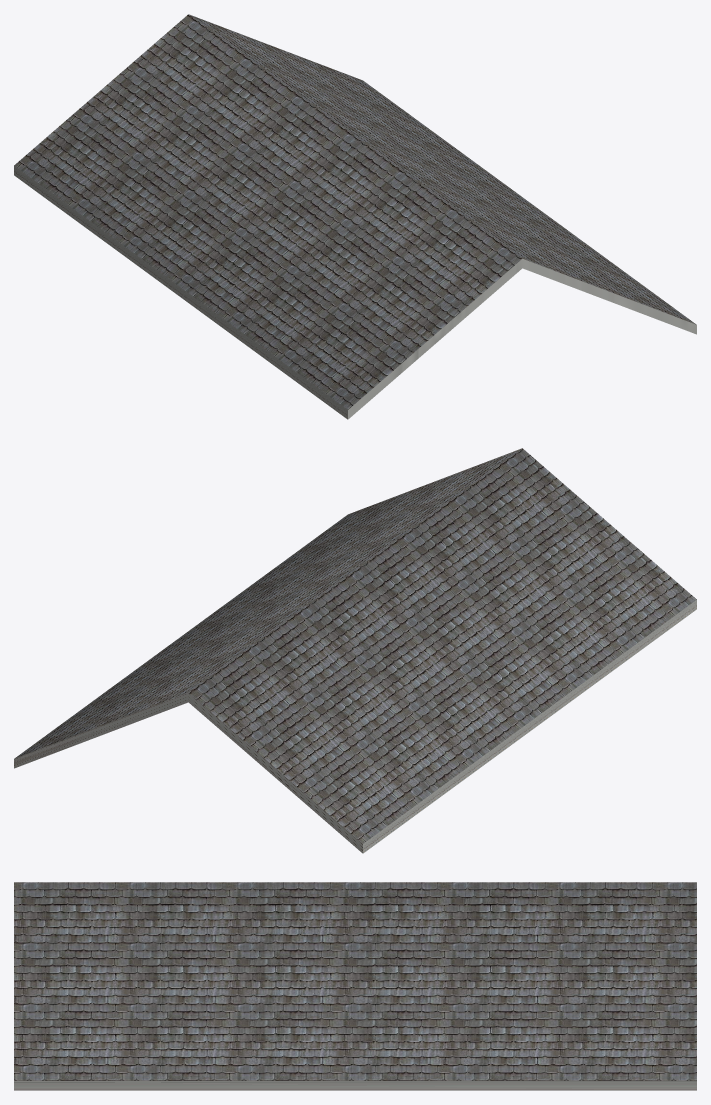
The model's file is ChurchRoof.fbx.
3 renders of one model, top to bottom at view 1: azimuth 30°, elevation 25°; view 2: azimuth 150°, elevation 25°; view 3: azimuth 270°, elevation 25°, orthographic. The views are drawn at different scales.
Parts seen in each view (by area): view 1: ChurchRoof; view 2: ChurchRoof; view 3: ChurchRoof.
Boxes of the visible parts, box(x1,y1,x2,y2) form: ChurchRoof: box(14, 14, 696, 419); ChurchRoof: box(14, 448, 696, 853); ChurchRoof: box(14, 882, 696, 1090).
Bounding box in the file's own units: 71.76 × 23.3 × 119.
